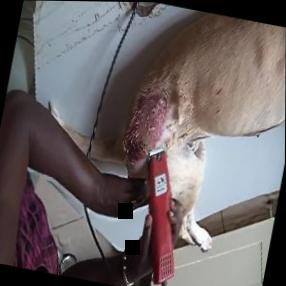skin_lesions: (119, 86, 176, 172)
